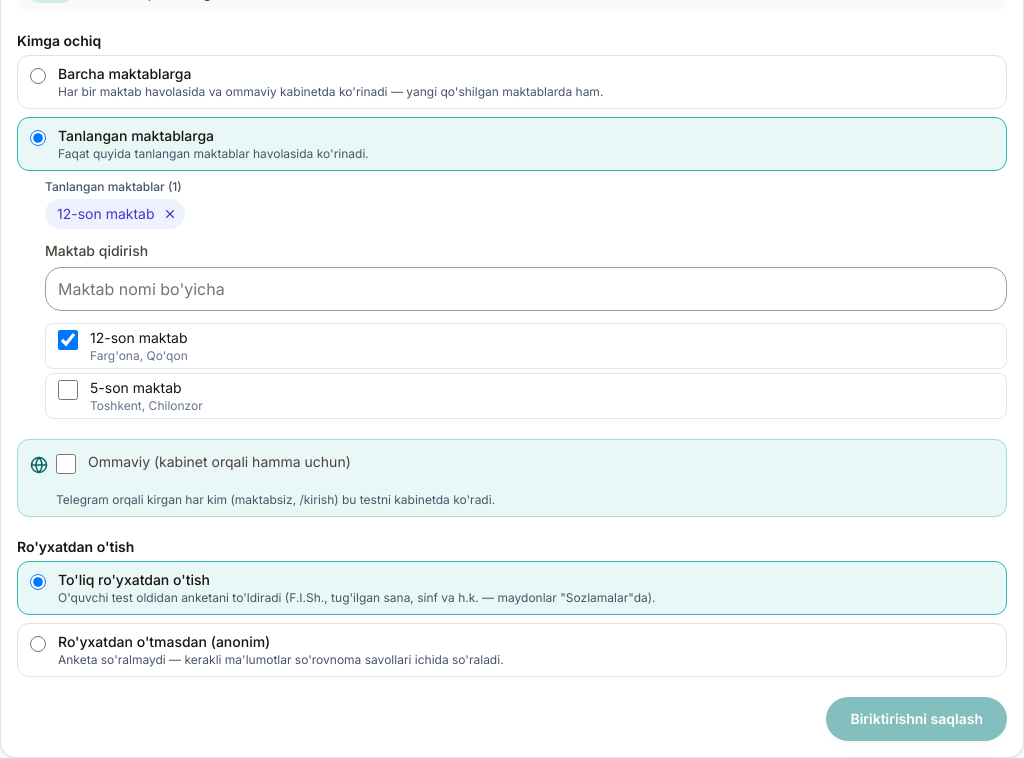
Test: TestAssignmentCard › anonim rejim tanlanganda registrationMode: None ketadi
The width and height of the screenshot is (1024, 758).
(page scrolled)
Click the radio button labelled "Ro'yxatdan o'tmasdan (anonim)".
click(38, 644)  # box [30, 636, 46, 652]
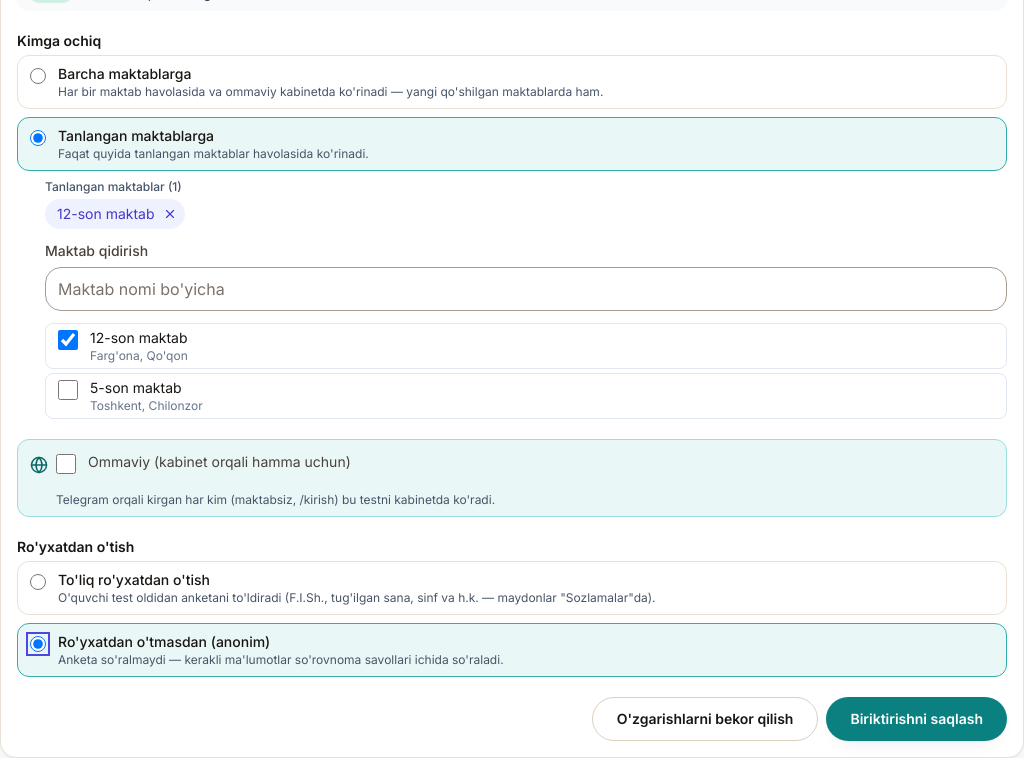
Click the button "Biriktirishni saqlash".
click(917, 719)  # box [826, 697, 1007, 741]
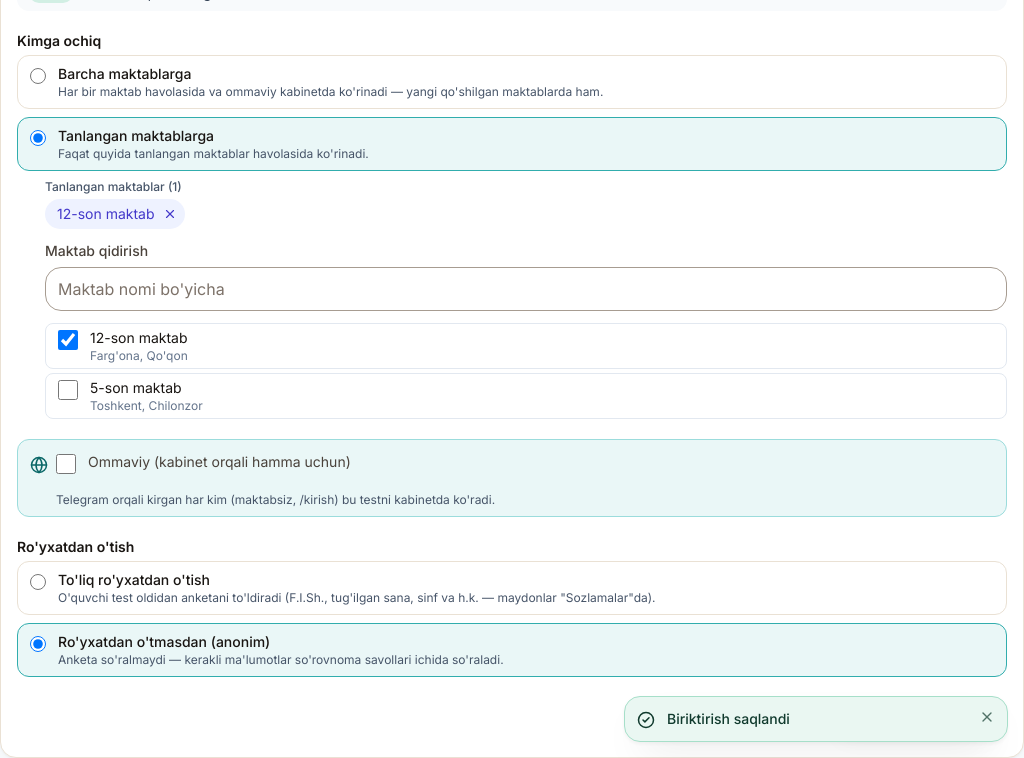
Now the text "Biriktirish saqlandi" is shown, box [667, 710, 790, 727]
